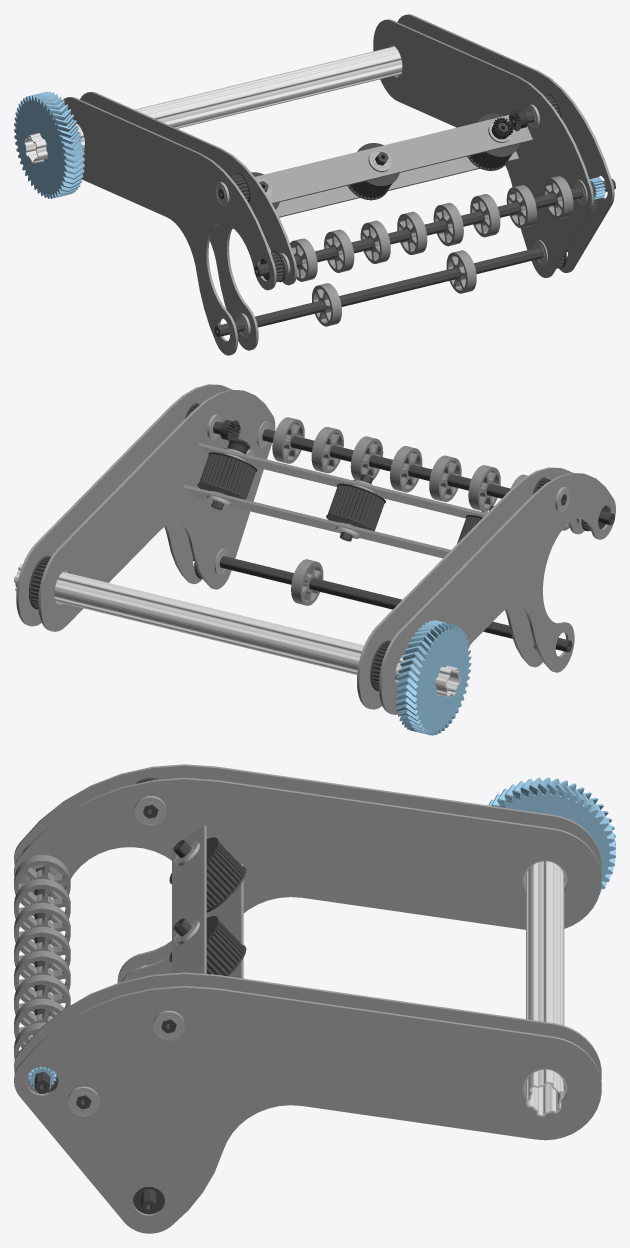
3 views of the same model, one above another, from view 1: azimuth 30°, elevation 25°; view 2: azimuth 150°, elevation 25°; view 3: azimuth 270°, elevation 25° (orthographic). The views are drawn at different scales.
Parts seen in each view (by area): view 1: Right Intake Plate, Part 7, 2" OD 40A Straight Flex Wheel (217-6354) (×10), MAXSpline Shaft 22", Part 4, Left Intake Plate, 1/2" ThunderHex - 19.5" (×2), Part 6, Spur gear (48 teeth), Part 5, 36T HTD Pulley 35mm Wide (×2); view 2: Right Intake Plate, Part 7, MAXSpline Shaft 22", 2" OD 40A Straight Flex Wheel (217-6354) (×7), Left Intake Plate, Part 6, Spur gear (48 teeth), 1/2" ThunderHex - 19.5" (×2), 36T HTD Pulley 35mm Wide (×2), Part 5, Part 4, 38T HTD Pulley 19mm Wide (+1 smaller); view 3: Part 6, Left Intake Plate, Part 7, 2" OD 40A Straight Flex Wheel (217-6354) (×7), Right Intake Plate, MAXSpline Shaft 22", Spur gear (48 teeth), Part 4, 36T HTD Pulley 35mm Wide (×2), 1/2" Hex x 1-1/8" OD (Flanged) (×3), Part 5, 1/2" ThunderHex - 19.5".
Boxes of the visible parts, x1,y1,x2,y2 form: Right Intake Plate: (373, 19, 593, 277); Part 7: (61, 97, 276, 355); 2" OD 40A Straight Flex Wheel (217-6354) (×10): (290, 176, 573, 326); MAXSpline Shaft 22": (24, 46, 402, 163); Part 4: (255, 115, 532, 203); Left Intake Plate: (80, 91, 297, 350); 1/2" ThunderHex - 19.5" (×2): (214, 179, 615, 337); Part 6: (397, 14, 614, 272); Spur gear (48 teeth): (14, 91, 84, 198); Part 5: (232, 151, 518, 228); 36T HTD Pulley 35mm Wide (×2): (347, 113, 519, 200); Right Intake Plate: (38, 389, 275, 631); Part 7: (379, 473, 615, 714); MAXSpline Shaft 22": (14, 564, 460, 697); 2" OD 40A Straight Flex Wheel (217-6354) (×7): (272, 417, 500, 605); Left Intake Plate: (357, 467, 584, 709); Part 6: (16, 384, 232, 626); Spur gear (48 teeth): (395, 620, 471, 735); 1/2" ThunderHex - 19.5" (×2): (193, 429, 614, 652); 36T HTD Pulley 35mm Wide (×2): (197, 452, 385, 530); Part 5: (183, 485, 450, 558); Part 4: (198, 443, 486, 518); 38T HTD Pulley 19mm Wide: (29, 556, 50, 609); Part 6: (14, 986, 601, 1233); Left Intake Plate: (14, 777, 601, 981); Part 7: (14, 764, 601, 982); 2" OD 40A Straight Flex Wheel (217-6354) (×7): (14, 855, 70, 1047); Right Intake Plate: (14, 972, 601, 1093); MAXSpline Shaft 22": (526, 861, 564, 1116); Spur gear (48 teeth): (488, 777, 615, 894); Part 4: (172, 824, 206, 973); 36T HTD Pulley 35mm Wide (×2): (169, 837, 246, 976); 1/2" Hex x 1-1/8" OD (Flanged) (×3): (67, 796, 184, 1116); Part 5: (209, 863, 243, 978); 1/2" ThunderHex - 19.5": (34, 867, 49, 1093).
Bounding box in the file's own units: 0.5588 × 0.2434 × 0.5393.
